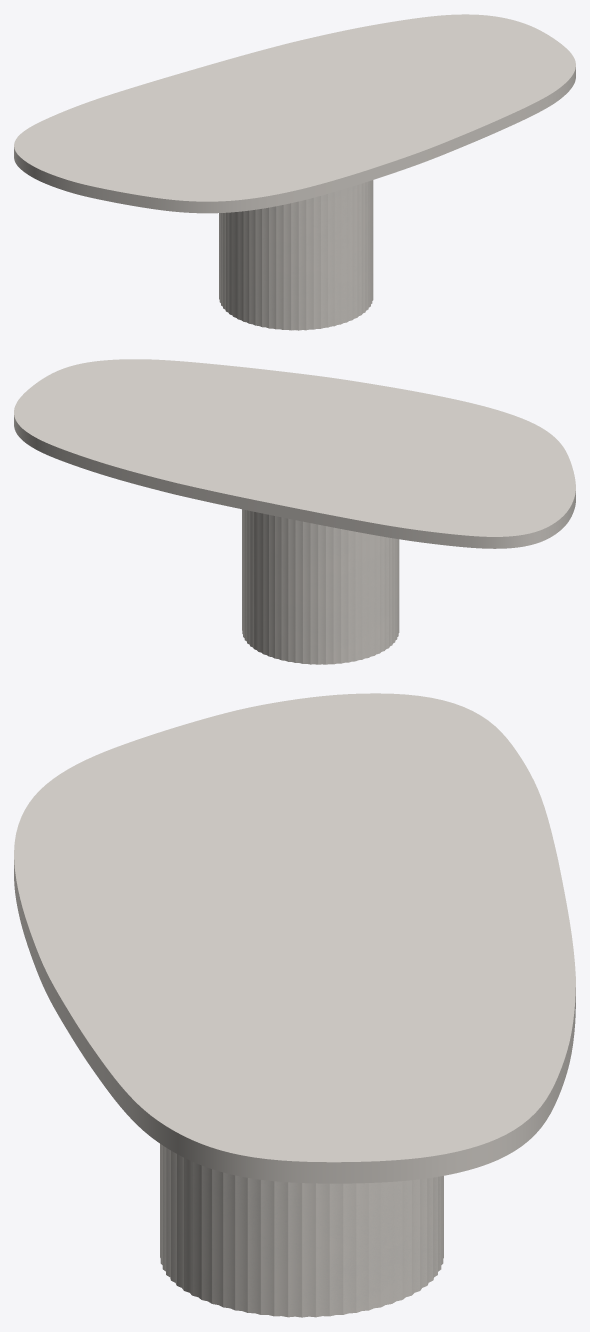
The model's file is pearlwhite_leaf2_standard_ripple.glb.
3 renders of one model, top to bottom at view 1: azimuth 30°, elevation 25°; view 2: azimuth 150°, elevation 25°; view 3: azimuth 270°, elevation 25°, orthographic. The views are drawn at different scales.
Visible parts, largest first — view 1: standard_leaf2, ripple; view 2: standard_leaf2, ripple; view 3: standard_leaf2, ripple.
Part boxes in pixels (x1=…): standard_leaf2: x1=14, y1=14, x2=575, y2=213; ripple: x1=219, y1=180, x2=373, y2=330; standard_leaf2: x1=14, y1=359, x2=575, y2=548; ripple: x1=242, y1=509, x2=399, y2=664; standard_leaf2: x1=14, y1=693, x2=575, y2=1183; ripple: x1=160, y1=1144, x2=443, y2=1317.
Bounding box in the file's own units: 7.5 × 2.52 × 3.8.
Materials: 1 (1 with a texture image).
